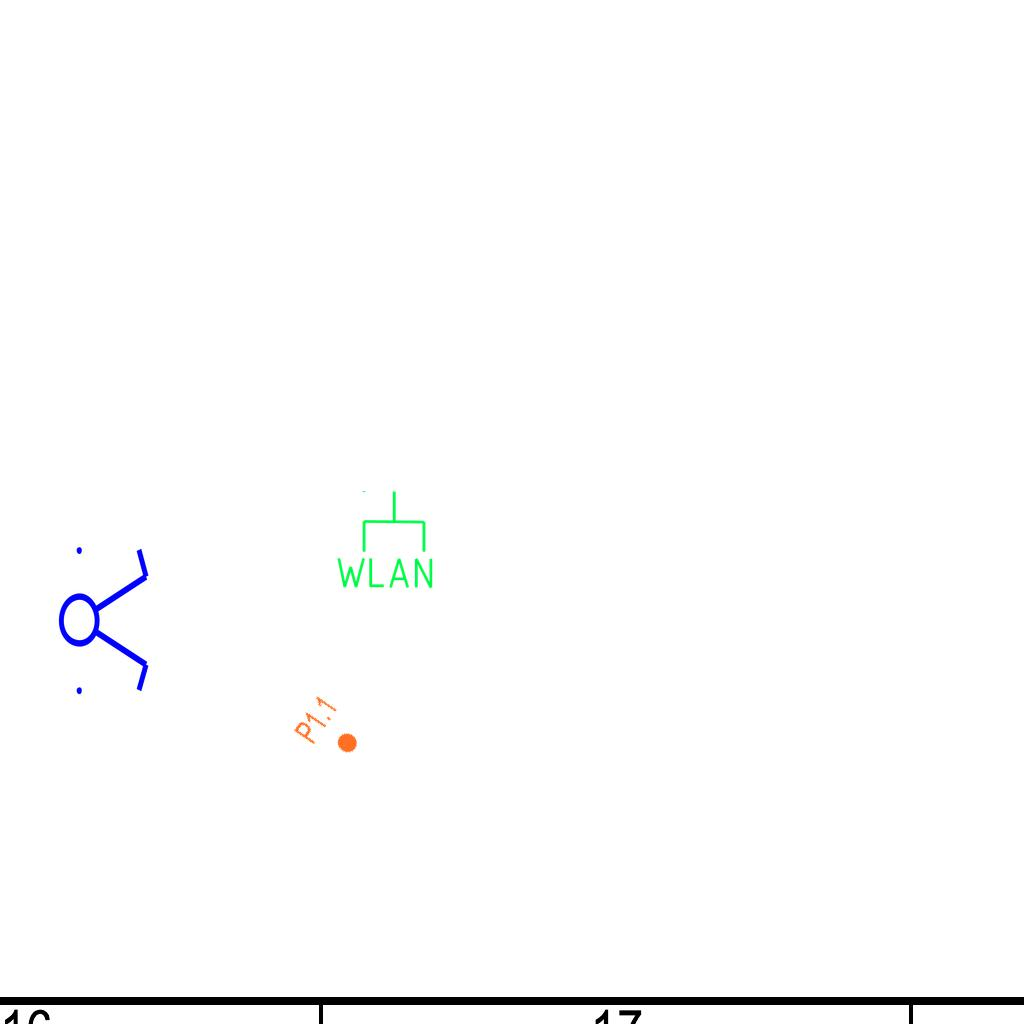Downlight_LED_Einbauleuchten_Flur: (291, 693, 371, 767)
Serienschalter: (57, 535, 153, 703)
WLAN: (332, 488, 437, 592)
